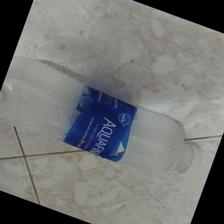Aquafina: (1, 54, 207, 177)
